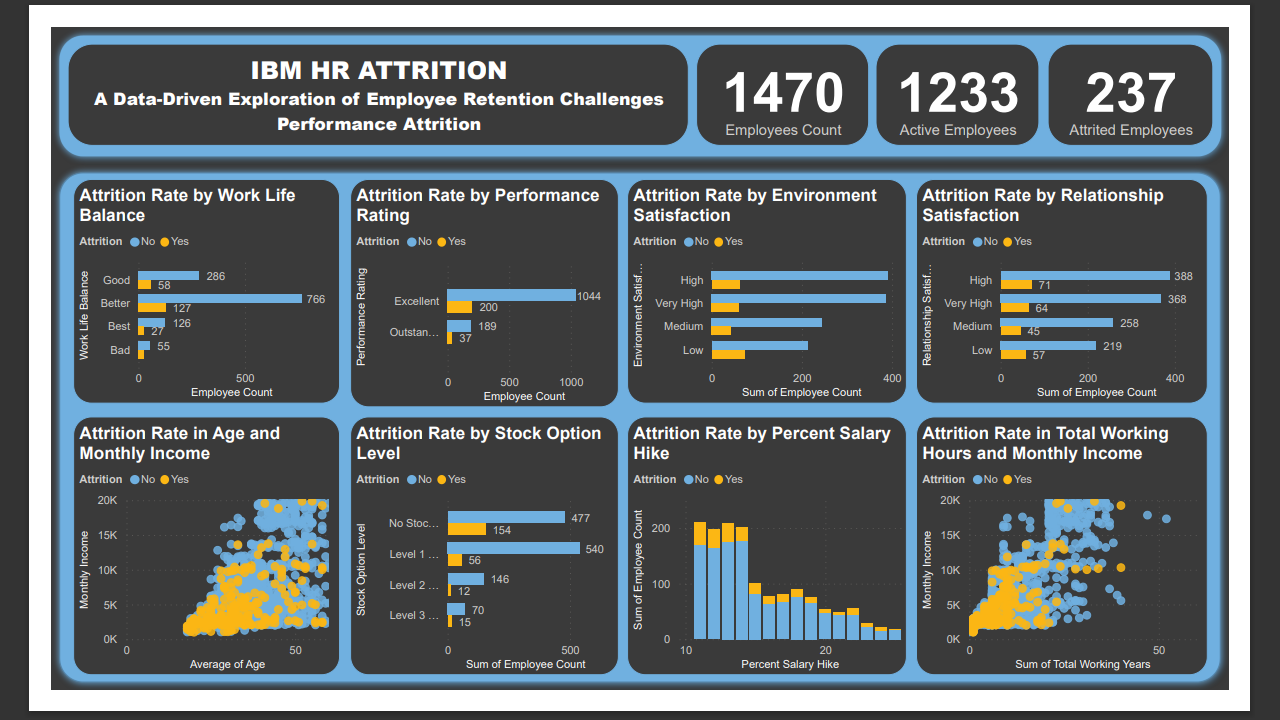

The page's visual inventory and layout, read from the dashboard file:
{"tool":"powerbi","page":{"name":"Page 3","canvas":[1280,720],"ordinal":2},"visuals":[{"type":"shape","box":[0,149,1279.4,571],"z":0},{"type":"clusteredBarChart","title":"Attrition Rate by Work Life Balance","fields":{"Y":["Sum(Table1.Employee Count)"],"Category":["Table1.Work Life Balance"],"Series":["Table1.Attrition"]},"box":[24.3,165.3,289.7,244.2],"z":1000},{"type":"clusteredBarChart","title":"Attrition Rate by Relationship Satisfaction","fields":{"Category":["Table1.Relationship Satisfaction"],"Y":["Sum(Table1.Employee Count)"],"Series":["Table1.Attrition"]},"box":[940.3,165.3,317,244.2],"z":2000},{"type":"clusteredBarChart","title":"Attrition Rate by Performance Rating","fields":{"Category":["Table1.Performance Rating"],"Y":["Sum(Table1.Employee Count)"],"Series":["Table1.Attrition"]},"box":[324.5,165.3,292.7,247.2],"z":3000},{"type":"clusteredBarChart","title":"Attrition Rate by Environment Satisfaction","fields":{"Category":["Table1.Environment Satisfaction"],"Y":["Sum(Table1.Employee Count)"],"Series":["Table1.Attrition"]},"box":[626.4,165.3,303.3,244.2],"z":4000},{"type":"clusteredBarChart","title":"Attrition Rate by Stock Option Level","fields":{"Category":["Table1.Stock Option Level"],"Y":["Sum(Table1.Employee Count)"],"Series":["Table1.Attrition"]},"box":[324.5,423.1,292.7,280.6],"z":5000},{"type":"scatterChart","title":"Attrition Rate in Age  and Monthly Income","fields":{"Y":["Table1.Monthly Income"],"X":["Table1.Age"],"Series":["Table1.Attrition"]},"box":[24.3,423.1,289.7,280.6],"z":6000},{"type":"shape","box":[0,0,1280,148.6],"z":7000},{"type":"card","fields":{"Values":["CountNonNull(Table1.Attrition)"]},"box":[1082.8,18.2,180.5,110.7],"z":8000},{"type":"card","fields":{"Values":["CountNonNull(Table1.Attrition)"]},"box":[700.7,18.2,188.1,110.7],"z":9000},{"type":"card","fields":{"Values":["CountNonNull(Table1.Attrition)"]},"box":[896.3,18.2,177.4,110.7],"z":10000},{"type":"textbox","box":[18.2,18.2,674.9,110.7],"z":11000},{"type":"scatterChart","title":"Attrition Rate in Total Working Hours  and Monthly Income","fields":{"Y":["Table1.Monthly Income"],"X":["Sum(Table1.Total Working Years)"],"Series":["Table1.Attrition"]},"box":[940.3,423.1,317,280.6],"z":12000},{"type":"columnChart","title":"Attrition Rate by Percent Salary Hike","fields":{"Category":["Table1.Percent Salary Hike"],"Series":["Table1.Attrition"],"Y":["Sum(Table1.Employee Count)"]},"box":[626.4,423.1,303.3,280.6],"z":13000}]}

Visuals, with their boxes in screenshot pixels (x1, y1, x2, y2), scaled from the page's 1280x720 canvas onto the 1280x720 screenshot:
shape: 0/149/1279/719
"Attrition Rate by Work Life Balance" clusteredBarChart: 24/165/314/410
"Attrition Rate by Relationship Satisfaction" clusteredBarChart: 940/165/1257/410
"Attrition Rate by Performance Rating" clusteredBarChart: 324/165/617/412
"Attrition Rate by Environment Satisfaction" clusteredBarChart: 626/165/930/410
"Attrition Rate by Stock Option Level" clusteredBarChart: 324/423/617/704
"Attrition Rate in Age  and Monthly Income" scatterChart: 24/423/314/704
shape: 0/0/1279/149
card - CountNonNull(Table1.Attrition): 1083/18/1263/129
card - CountNonNull(Table1.Attrition): 701/18/889/129
card - CountNonNull(Table1.Attrition): 896/18/1074/129
textbox: 18/18/693/129
"Attrition Rate in Total Working Hours  and Monthly Income" scatterChart: 940/423/1257/704
"Attrition Rate by Percent Salary Hike" columnChart: 626/423/930/704
